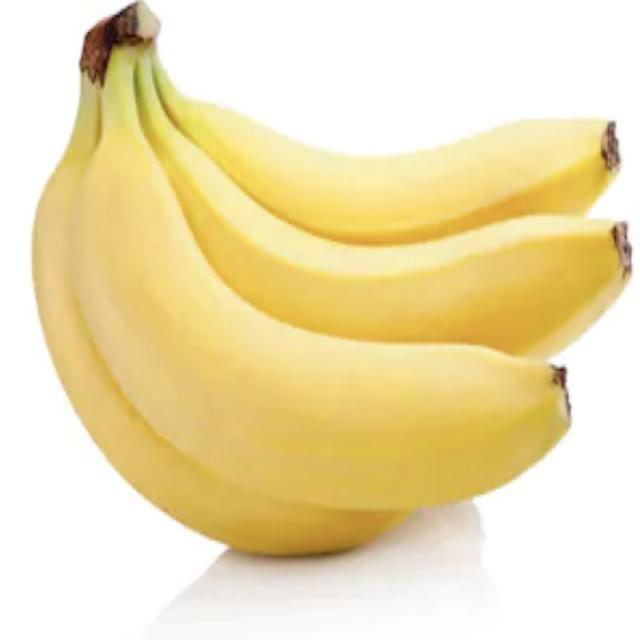Banana: (34, 32, 639, 585)
